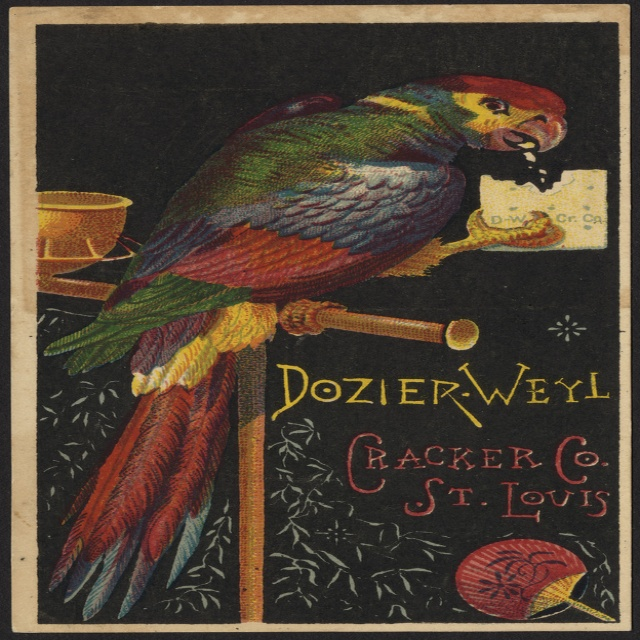Parrot: (29, 66, 569, 620)
